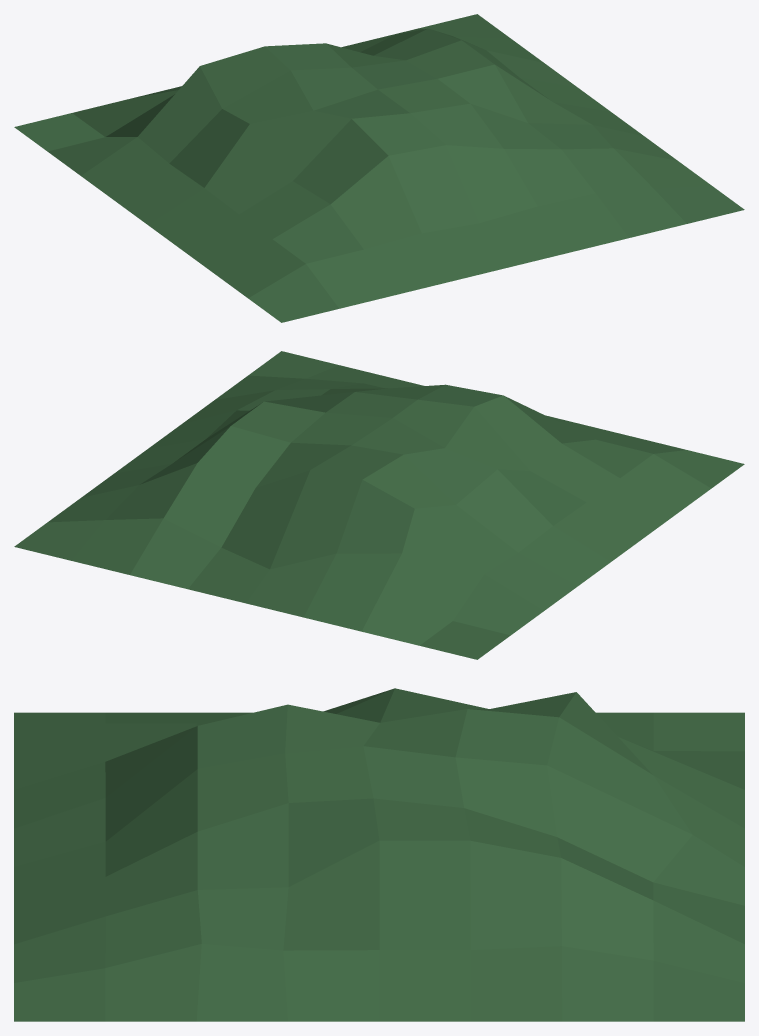
File: Terrain_16_Light_Green.fbx
3 renders of one model, top to bottom at view 1: azimuth 30°, elevation 25°; view 2: azimuth 150°, elevation 25°; view 3: azimuth 270°, elevation 25°, orthographic. The views are drawn at different scales.
Parts seen in each view (by area): view 1: Terrain_16_Light_Green; view 2: Terrain_16_Light_Green; view 3: Terrain_16_Light_Green.
Boxes of the visible parts, x1,y1,x2,y2 form: Terrain_16_Light_Green: [14, 14, 744, 322]; Terrain_16_Light_Green: [14, 351, 744, 659]; Terrain_16_Light_Green: [14, 688, 744, 1021].
Size of the model in its own units: 7000 by 1288 by 7000.
